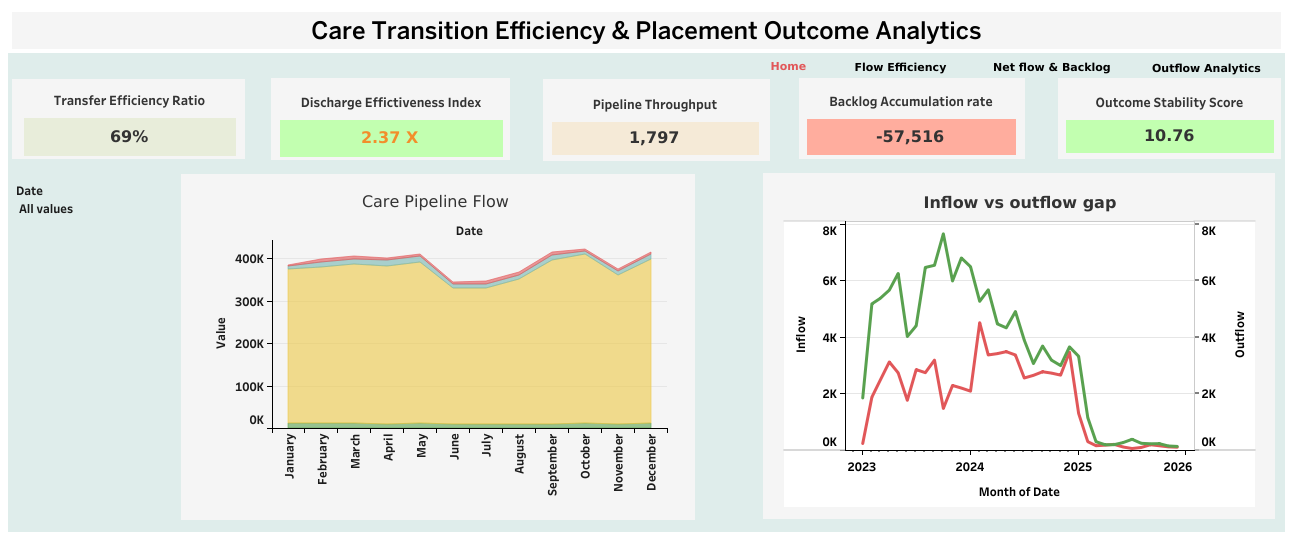

The page's visual inventory and layout, read from the dashboard file:
{"tool":"tableau","page":{"name":"Home","canvas":[1000,1000],"units":"permille","ordinal":1},"visuals":[{"type":"title","box":[6.9,16.5,986.1,92.8]},{"type":"dashboard-object","box":[575.8,105.1,68.4,32.6]},{"type":"dashboard-object","box":[646.8,105.1,99.6,36.2]},{"type":"dashboard-object","box":[756.7,108.7,114.3,30.8]},{"type":"dashboard-object","box":[880.5,110.5,104.8,29]},{"type":"worksheet","title":"Transfer Efficiency Ratio","mark":"Automatic","box":[18.2,155.8,163.6,130.4]},{"type":"worksheet","title":"Backlog Accumulation rate","mark":"Automatic","box":[624.2,157.6,161,126.8]},{"type":"worksheet","title":"Discharge Effictiveness Index","mark":"Automatic","box":[216.5,159.4,171.4,128.6]},{"type":"worksheet","title":"Outcome Stability Score","mark":"Automatic","box":[824.2,159.4,160.2,121.4]},{"type":"worksheet","title":"Pipeline Throughput","mark":"Automatic","box":[426.8,163,159.3,121.4]},{"type":"filter","title":"Care Pipeline Flow","param":"[federated.0tnxpxp1vtjt7216vxemc048mjvf].[none:Date:qk]","box":[12.1,334,122.9,109.3]},{"type":"worksheet","title":"Care Pipeline Flow","mark":"Area","cols":["Date"],"box":[157.6,344.3,358.4,595.9]},{"type":"worksheet","title":"Inflow vs outflow gap","mark":"Automatic","rows":["Inflow","Outflow"],"cols":["Date"],"box":[606.1,346,365.4,594.2]}]}

Visuals, with their boxes on the dashboard's canvas, which has no fixed pixel size, in thousandths of its width and height (x1, y1, x2, y2). These are canvas units, not pixel positions in the 1292x539 screenshot, which may show the page scaled, cropped or inside an application window:
title: bbox(7, 16, 993, 109)
dashboard-object: bbox(576, 105, 644, 138)
dashboard-object: bbox(647, 105, 746, 141)
dashboard-object: bbox(757, 109, 871, 140)
dashboard-object: bbox(880, 110, 985, 140)
"Transfer Efficiency Ratio" worksheet: bbox(18, 156, 182, 286)
"Backlog Accumulation rate" worksheet: bbox(624, 158, 785, 284)
"Discharge Effictiveness Index" worksheet: bbox(216, 159, 388, 288)
"Outcome Stability Score" worksheet: bbox(824, 159, 984, 281)
"Pipeline Throughput" worksheet: bbox(427, 163, 586, 284)
"Care Pipeline Flow" filter: bbox(12, 334, 135, 443)
"Care Pipeline Flow" worksheet (Area marks): bbox(158, 344, 516, 940)
"Inflow vs outflow gap" worksheet: bbox(606, 346, 972, 940)
